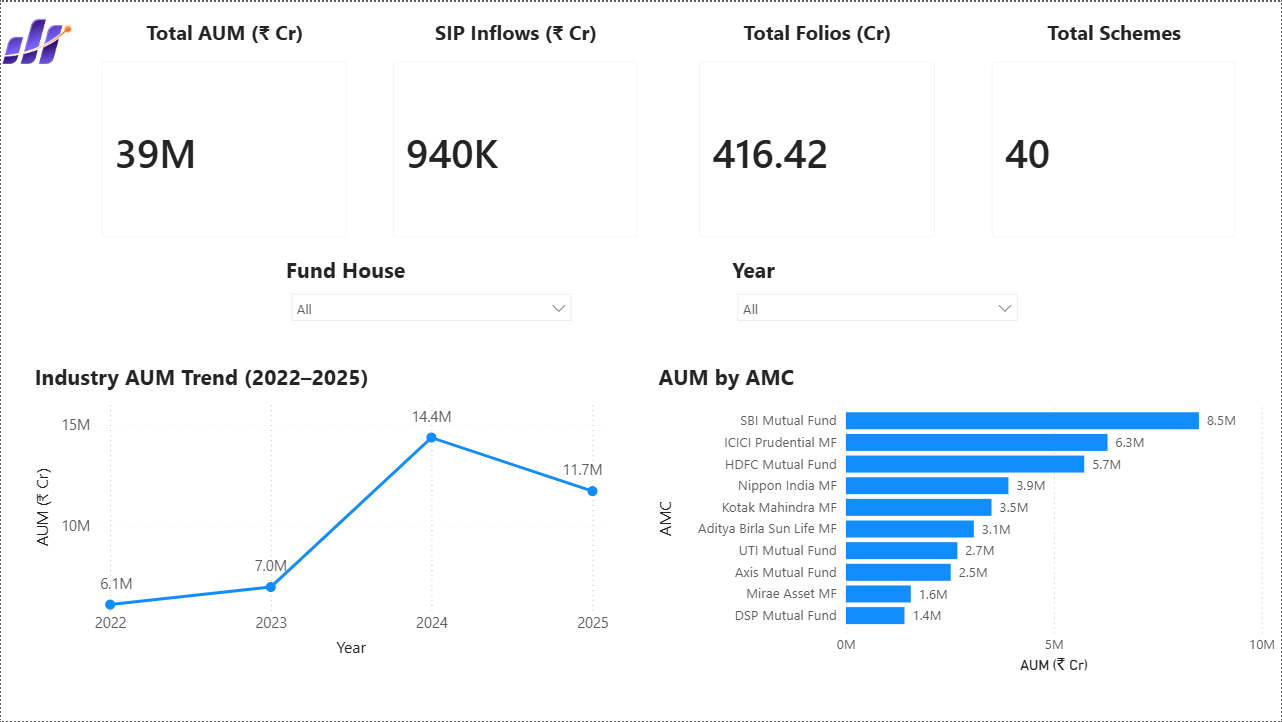

Layout of this report page (visuals, bound fields, positions):
{"tool":"powerbi","page":{"name":"Industry Overview","canvas":[1280,720],"ordinal":0},"visuals":[{"type":"cardVisual","title":"Total AUM (₹ Cr)","fields":{"Data":["Measures (2).Total AUM"]},"box":[83.2,15.7,279.9,236.5],"z":0},{"type":"cardVisual","title":"SIP Inflows (₹ Cr)","fields":{"Data":["Measures (2).Total SIP"]},"box":[375.2,15.7,279.9,236.5],"z":1000},{"type":"cardVisual","title":"Total Folios (Cr)","fields":{"Data":["Measures (2).Total Folios"]},"box":[681.6,15.7,270.2,236.5],"z":2000},{"type":"cardVisual","title":"Total Schemes","fields":{"Data":["Measures (2).Total Schemes"]},"box":[973.6,15.7,278.7,236.5],"z":3000},{"type":"lineChart","title":"Industry AUM Trend (2022–2025)","fields":{"Y":["Sum(AUM.aum_crore)"],"Category":["AUM.date.Variation.Date Hierarchy.Year"]},"box":[29,359.5,583.9,300.4],"z":4000},{"type":"clusteredBarChart","title":"AUM by AMC","fields":{"Category":["AUM.fund_house"],"Y":["Sum(AUM.aum_crore)"]},"box":[652.7,359.5,627.3,316.1],"z":5000},{"type":"image","box":[0,0,72.4,74.8],"z":6000},{"type":"slicer","title":"Fund House","fields":{"Values":["Fund Master.fund_house"]},"box":[279.9,252.1,300.4,91.7],"z":6001},{"type":"slicer","title":"Year","fields":{"Values":["AUM.date.Variation.Date Hierarchy.Year"]},"box":[726.3,252.1,300.4,107.4],"z":6002}]}

Visuals, with their boxes in screenshot pixels (x1, y1, x2, y2), scaled from the page's 1280x720 canvas onto the 1282x722 screenshot:
"Total AUM (₹ Cr)" cardVisual: pyautogui.locateOnScreen(83, 16, 364, 253)
"SIP Inflows (₹ Cr)" cardVisual: pyautogui.locateOnScreen(376, 16, 656, 253)
"Total Folios (Cr)" cardVisual: pyautogui.locateOnScreen(683, 16, 953, 253)
"Total Schemes" cardVisual: pyautogui.locateOnScreen(975, 16, 1254, 253)
"Industry AUM Trend (2022–2025)" lineChart: pyautogui.locateOnScreen(29, 360, 614, 662)
"AUM by AMC" clusteredBarChart: pyautogui.locateOnScreen(654, 360, 1281, 677)
image: pyautogui.locateOnScreen(0, 0, 73, 75)
"Fund House" slicer: pyautogui.locateOnScreen(280, 253, 581, 345)
"Year" slicer: pyautogui.locateOnScreen(727, 253, 1028, 360)
